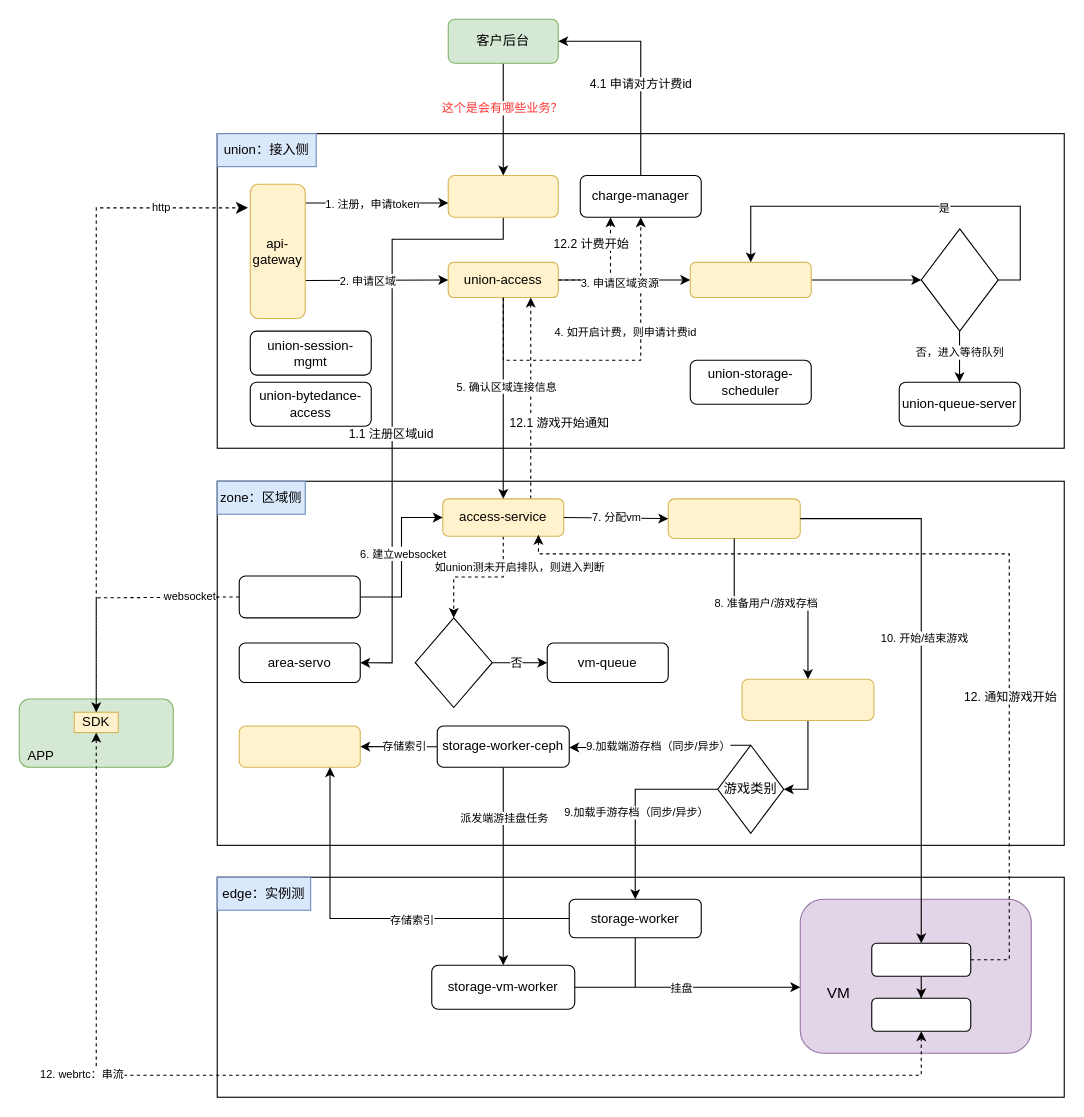
This 1084x1117 diagram has some shape labels left out. Each missing label, with the centre of its shape:
"access-proxy" belongs at pixel 299 596.
"gsmonitor" belongs at pixel 921 959.
"lightstreamer" belongs at pixel 921 1014.
"storage_index" belongs at pixel 299 746.
"storage_scheduler" belongs at pixel 807 699.
"union-resource" belongs at pixel 750 279.
"union-servo" belongs at pixel 502 195.
"vm_manager_v2" belongs at pixel 733 518.
"区域资源足够？" belongs at pixel 453 662.
"是否有可用区" belongs at pixel 959 279.
